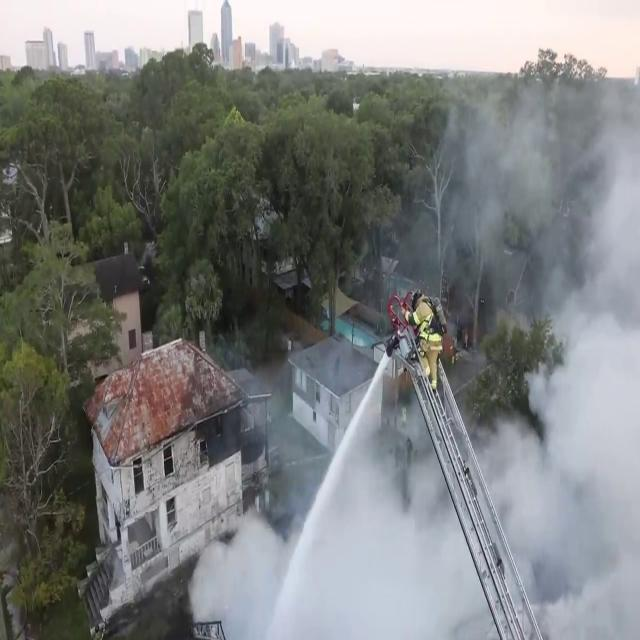Smoke: (216, 538, 393, 640)
